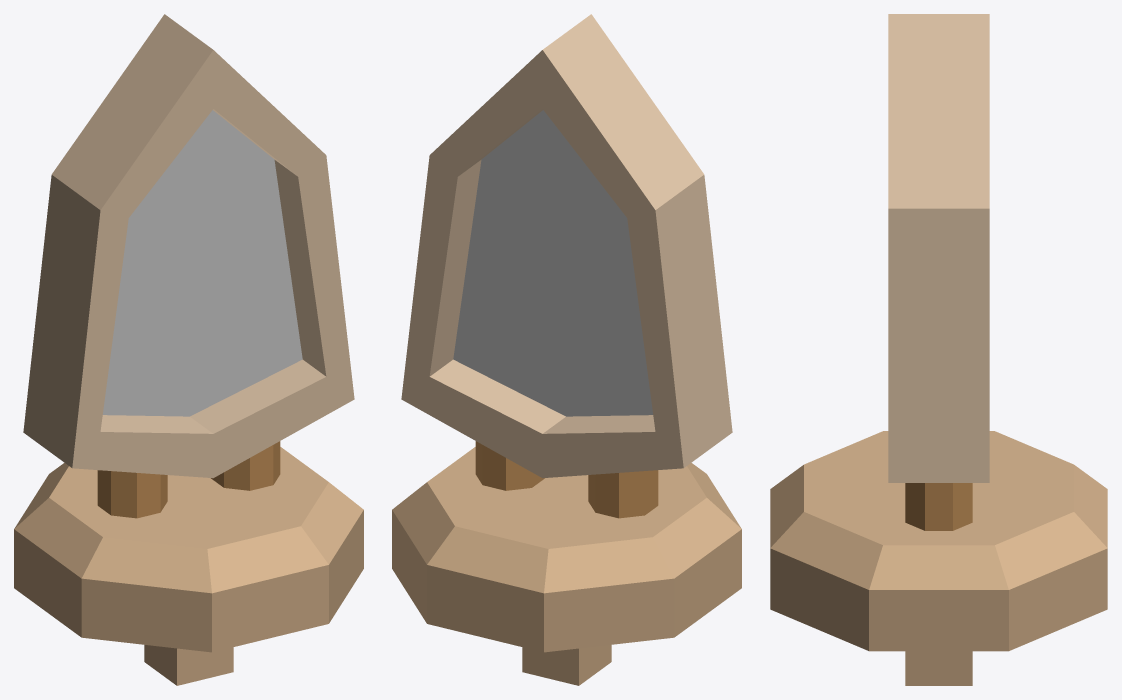
File: Prop_Mirror.obj
3 renders of one model, left to right at view 1: azimuth 30°, elevation 25°; view 2: azimuth 150°, elevation 25°; view 3: azimuth 270°, elevation 25°, orthographic. The views are drawn at different scales.
Parts seen in each view (by area): view 1: object1; view 2: object1; view 3: object1.
Boxes of the visible parts, x1=… form: object1: x1=14, y1=14, x2=363, y2=685; object1: x1=392, y1=14, x2=741, y2=685; object1: x1=770, y1=14, x2=1107, y2=685.
Size of the model in its own units: 0.5 by 1.08 by 0.5.
